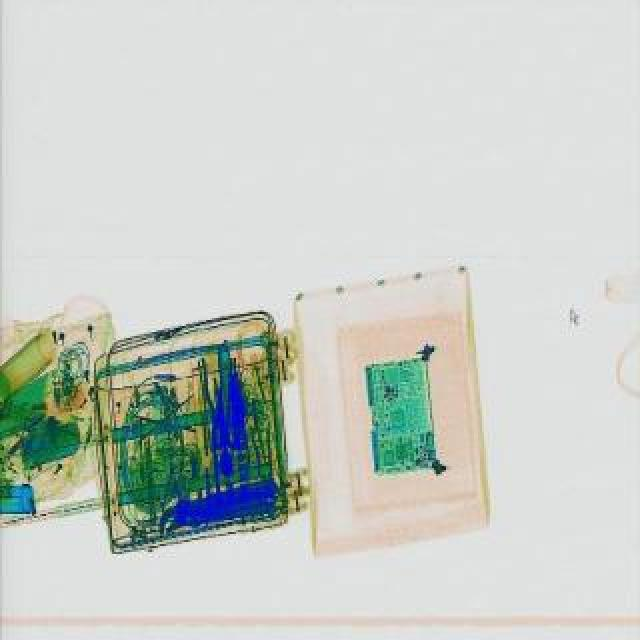wrench: (198, 342, 228, 432), (162, 460, 182, 514)
